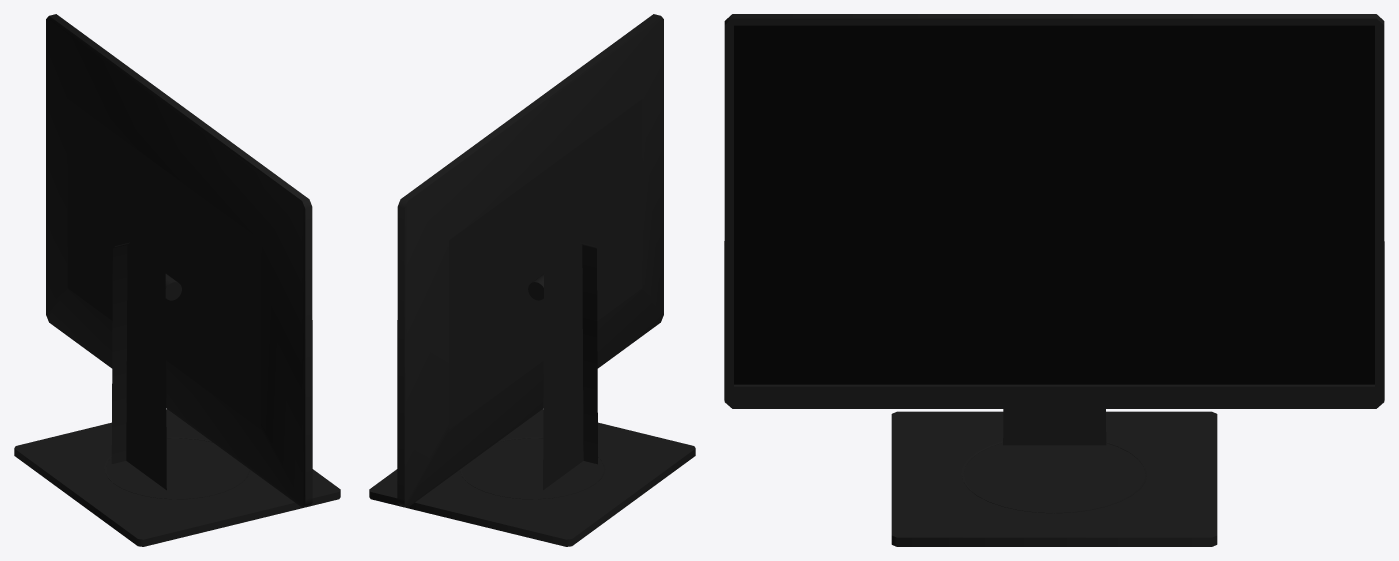
Rendered from monitor.fbx.
The picture shows the model from 3 angles, left to right: view 1: azimuth 30°, elevation 25°; view 2: azimuth 150°, elevation 25°; view 3: azimuth 270°, elevation 25°; orthographic projection. The views are drawn at different scales.
Visible parts, largest first — view 1: Monitor; view 2: Monitor; view 3: Monitor.
Boxes of the visible parts, <box> form: Monitor: <box>14,14,340,546</box>; Monitor: <box>369,14,695,546</box>; Monitor: <box>724,14,1384,546</box>.
Bounding box in the file's own units: 0.2513 × 0.4361 × 0.5567.
